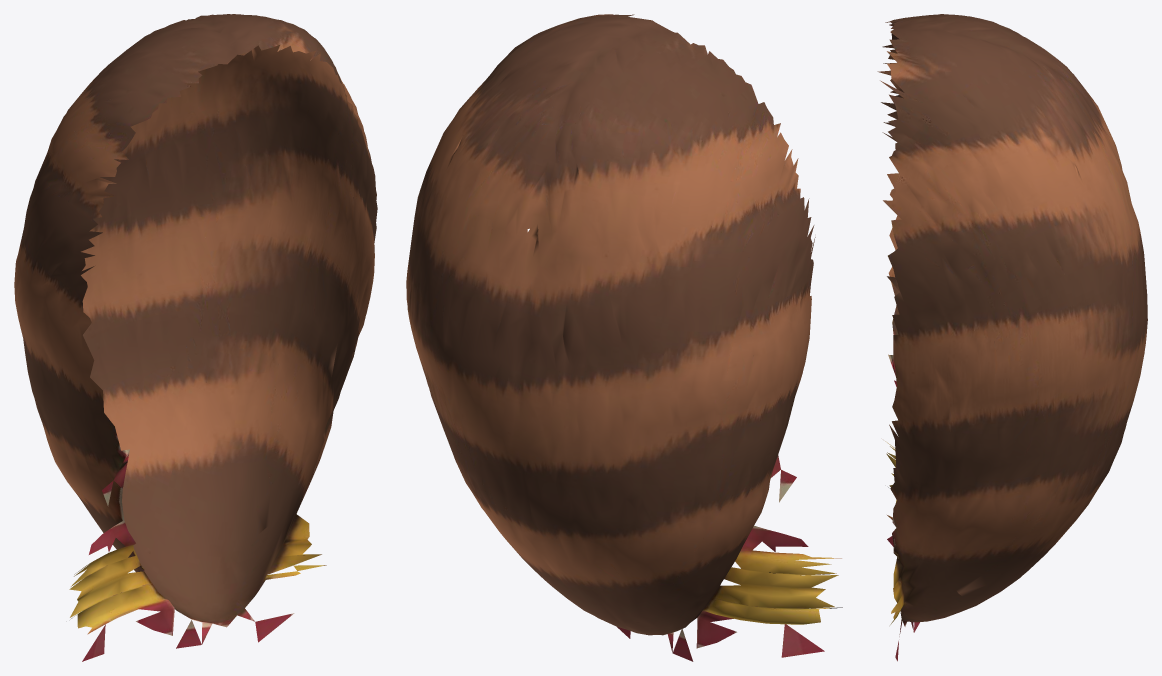
Rendered from pon_reveal.glb.
3 views of the same model, side by side, from view 1: azimuth 30°, elevation 25°; view 2: azimuth 150°, elevation 25°; view 3: azimuth 270°, elevation 25° (orthographic). The views are drawn at different scales.
Parts seen in each view (by area): view 1: pon_reveal; view 2: pon_reveal; view 3: pon_reveal.
Part boxes in pixels (left/top/right/bottom): pon_reveal: left=14, top=14, right=377, bottom=661; pon_reveal: left=406, top=14, right=842, bottom=661; pon_reveal: left=877, top=14, right=1147, bottom=661.
Bounding box in the file's own units: 0.6 × 1 × 0.3917.
1 material, 1 textured.
